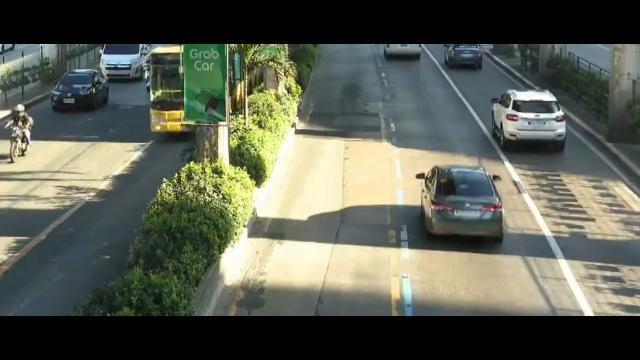bus: (143, 49, 187, 136)
car: (417, 166, 506, 242), (490, 90, 567, 145), (51, 63, 107, 111), (442, 44, 484, 70)
motorcycle: (6, 104, 33, 163)
van: (99, 45, 152, 82)
